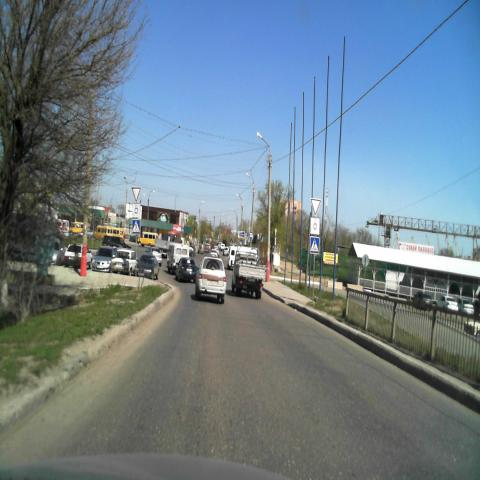8_13_1: (310, 218, 320, 234), (132, 204, 140, 218)
